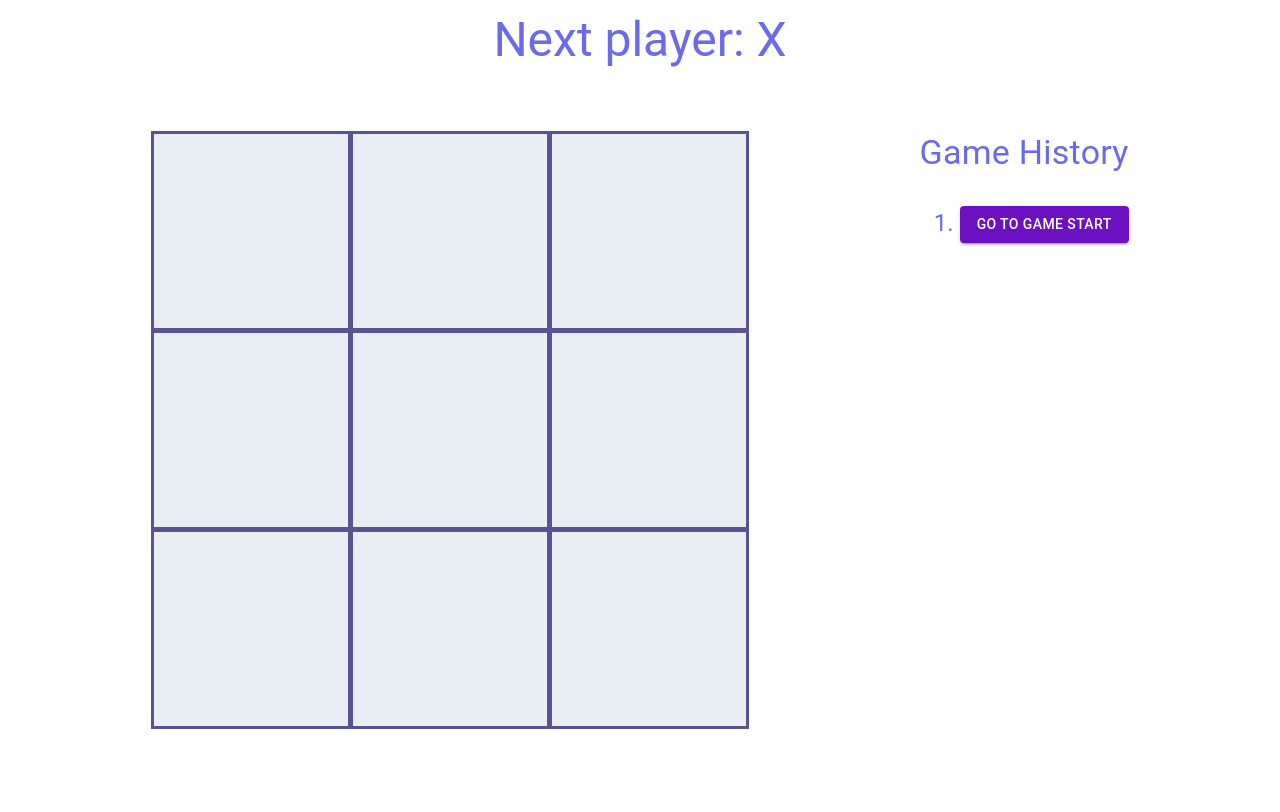
Test: x wins the game
Click the button with test id "squareButton0": (251, 231) [151,131,351,331]
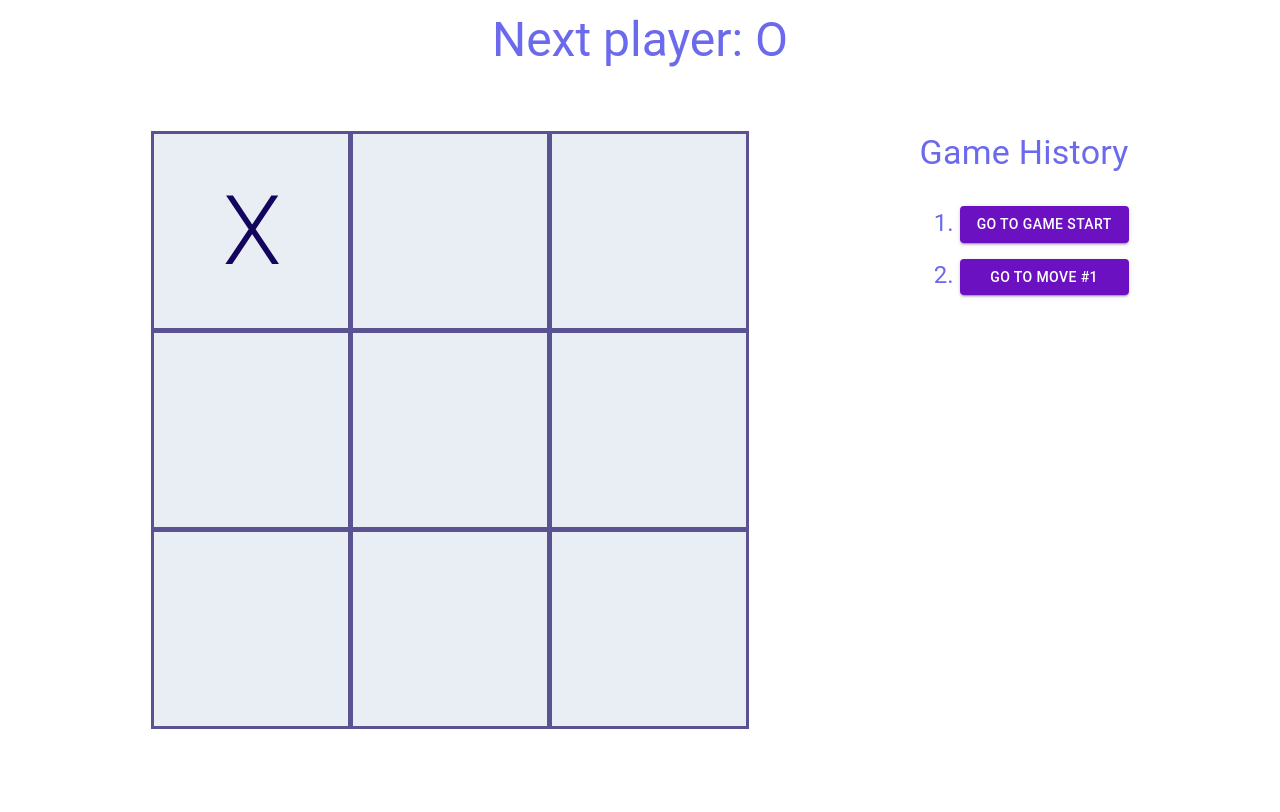
Click the button with test id "squareButton8": (649, 629) [549,529,749,729]
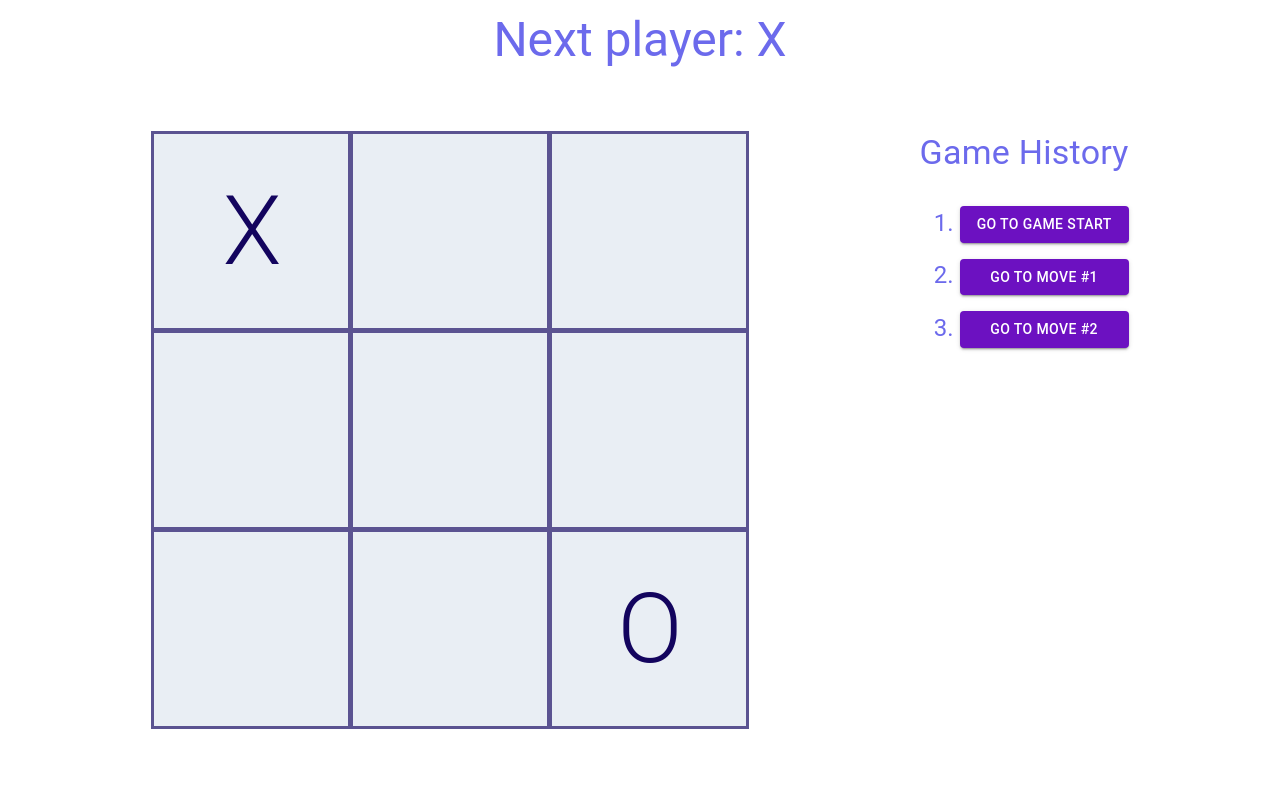
Click the button with test id "squareButton1": (450, 231) [350,131,550,331]
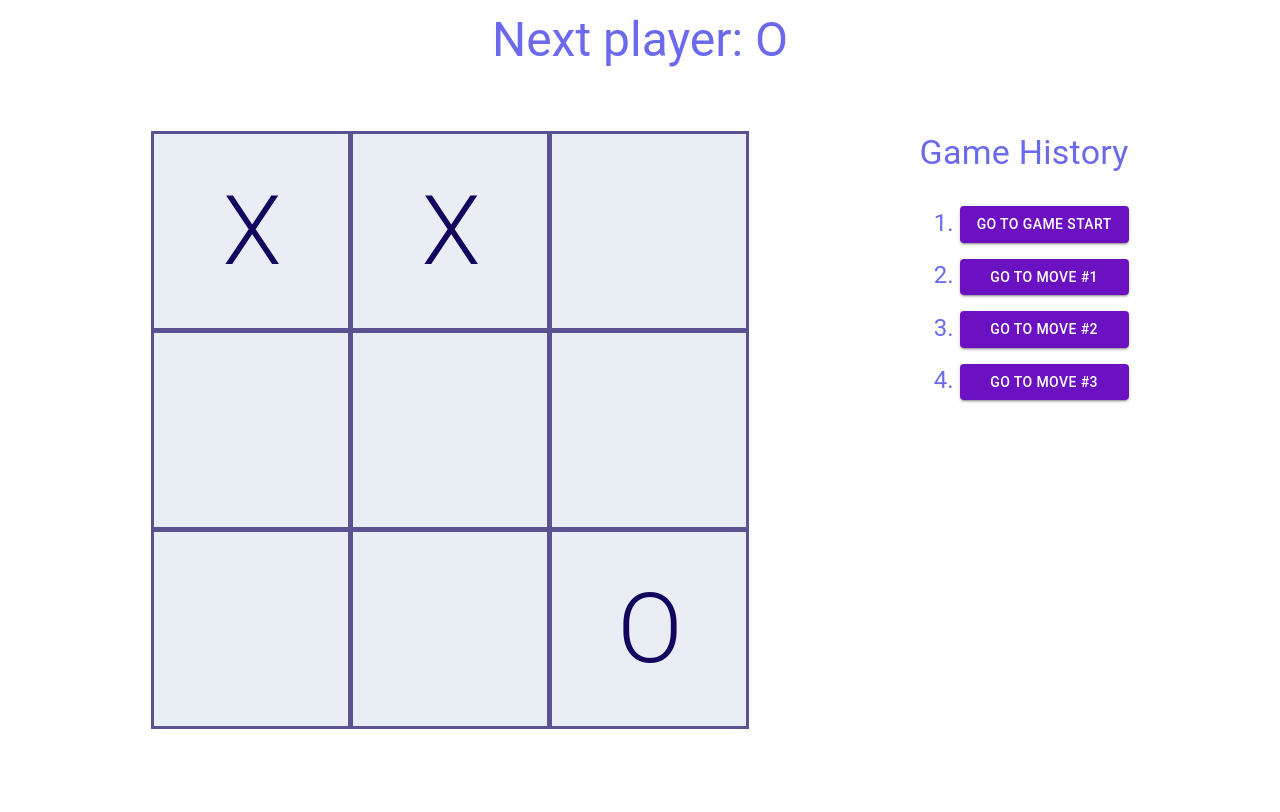
Click the button with test id "squareButton4": (450, 430) [350,330,550,530]
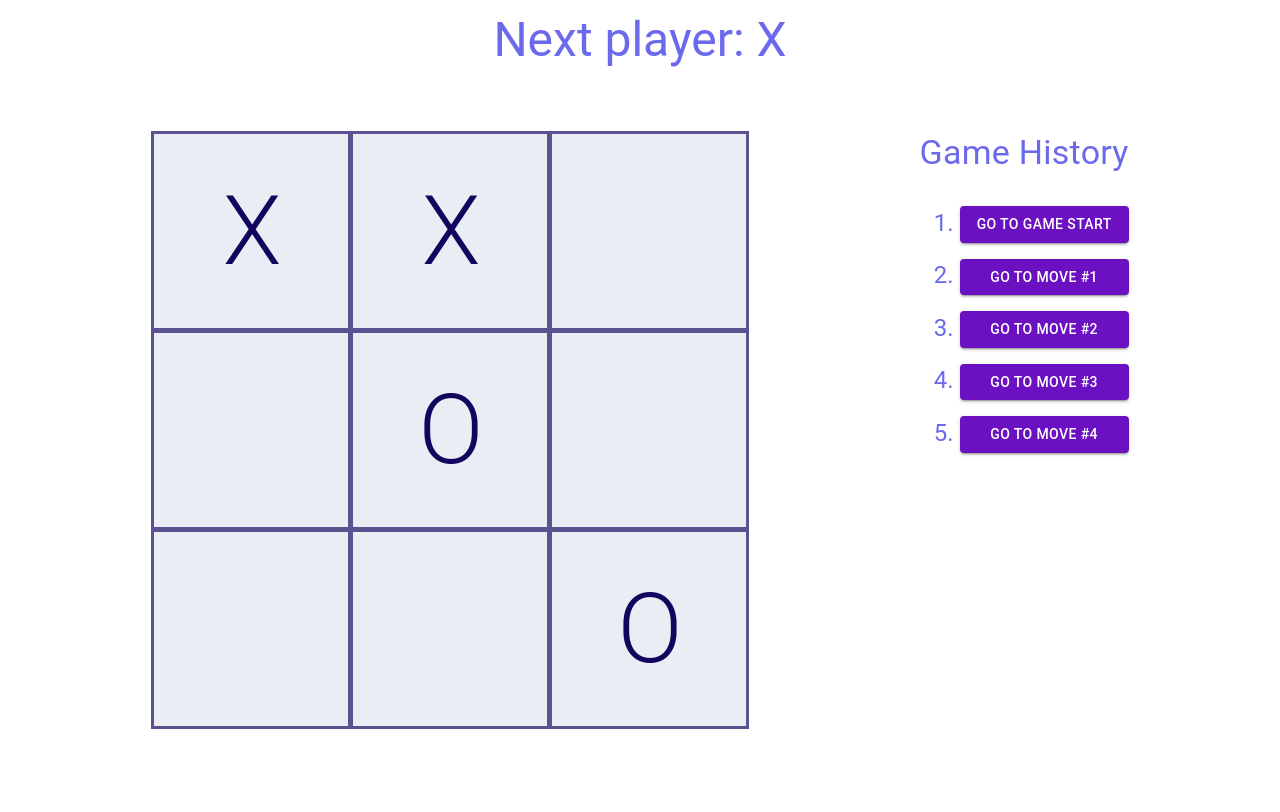
Click the button with test id "squareButton2": (649, 231) [549,131,749,331]
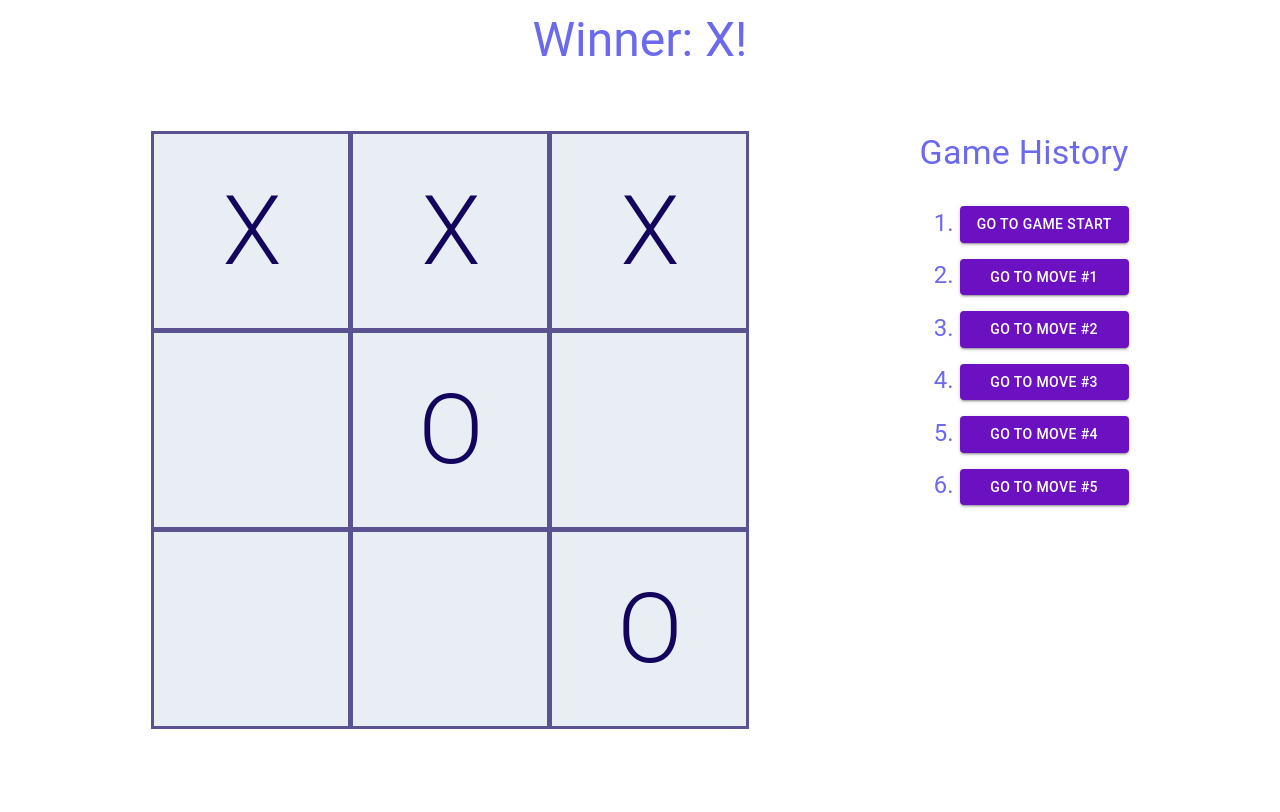
Now the heading "Winner: X!" is shown, box [532,11,748,68]
